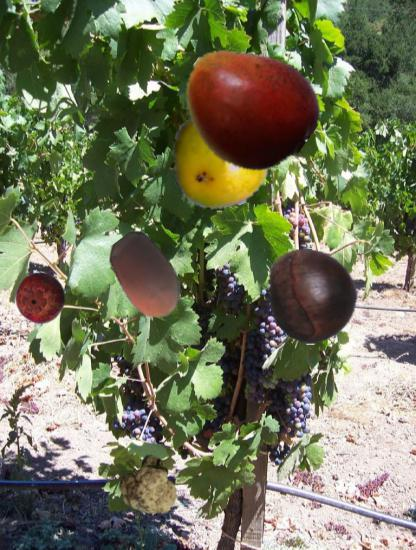Cauliflower: (118, 454, 179, 515)
Chestnut: (265, 248, 362, 345)
Hazelnut: (100, 231, 193, 324)
Mango: (179, 38, 316, 175)
Mangostan: (14, 272, 67, 325)
Maracuja: (165, 102, 273, 210)
